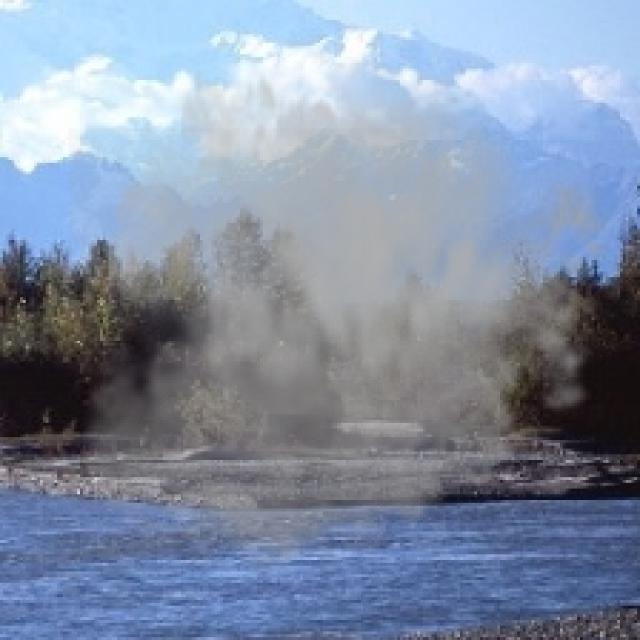smoke: (69, 31, 626, 588)
